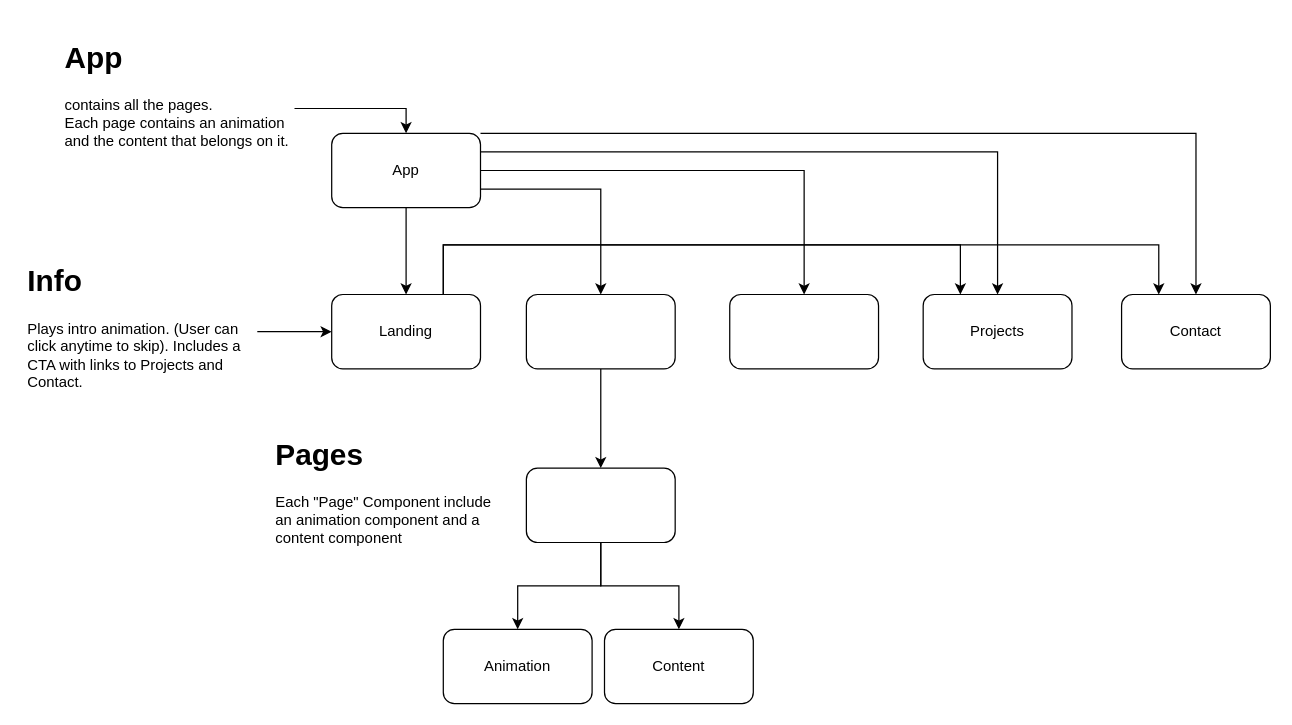
Some shapes in this 1292 by 725 pixel diagram are drawn without their labels. The centre of each missing label's shape, as x and y in pixels:
"About" belongs at (803,331).
"Animation Content" belongs at (600,504).
"Home" belongs at (600,331).
